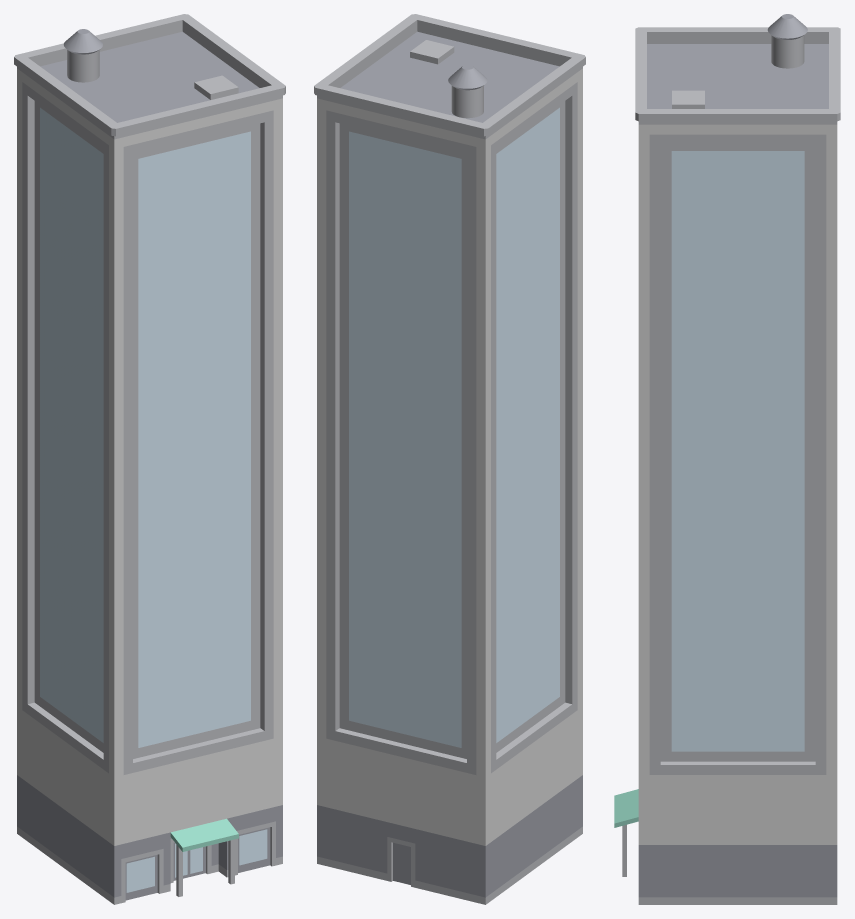
File: SkyscraperD-transformed.glb
3 views of the same model, side by side, from view 1: azimuth 30°, elevation 25°; view 2: azimuth 150°, elevation 25°; view 3: azimuth 270°, elevation 25° (orthographic).
Visible parts, largest first — view 1: skyscraperD; view 2: skyscraperD; view 3: skyscraperD.
Part boxes in pixels (x1,y1,x2,y2): skyscraperD: (14, 14, 285, 904); skyscraperD: (314, 14, 585, 904); skyscraperD: (614, 14, 840, 904).
Bounding box in the file's own units: 1.24 × 5.5 × 1.37.
